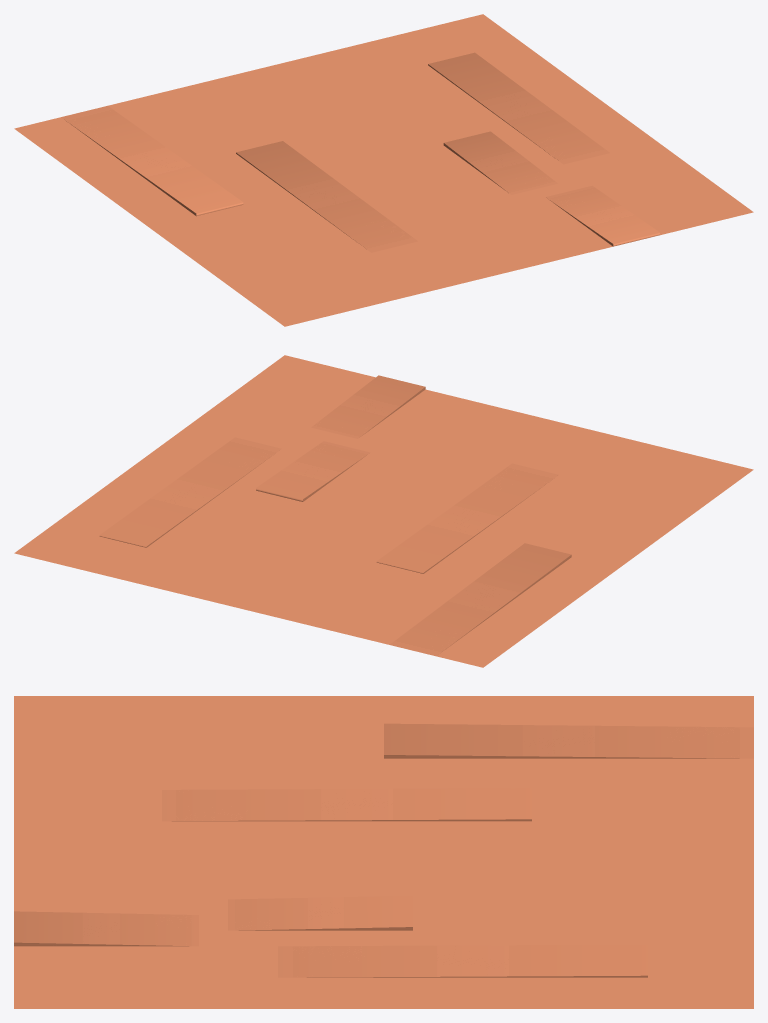
The model's file is floor-wood.002_lev2.glb.
3 views of the same model, one above another, from view 1: azimuth 30°, elevation 25°; view 2: azimuth 150°, elevation 25°; view 3: azimuth 270°, elevation 25° (orthographic). The views are drawn at different scales.
Parts seen in each view (by area): view 1: floor-wood.002_lev2; view 2: floor-wood.002_lev2; view 3: floor-wood.002_lev2.
Part boxes in pixels (<box>): floor-wood.002_lev2: <box>14,14,753,326</box>; floor-wood.002_lev2: <box>14,355,753,667</box>; floor-wood.002_lev2: <box>14,696,753,1008</box>.
Size of the model in its own units: 5 by 0.0275 by 5.
1 material, 1 textured.
